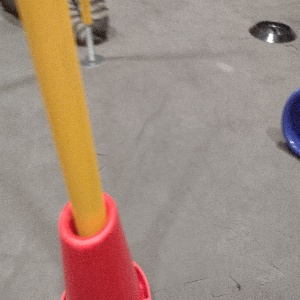Red_1: (53, 191, 154, 299)
